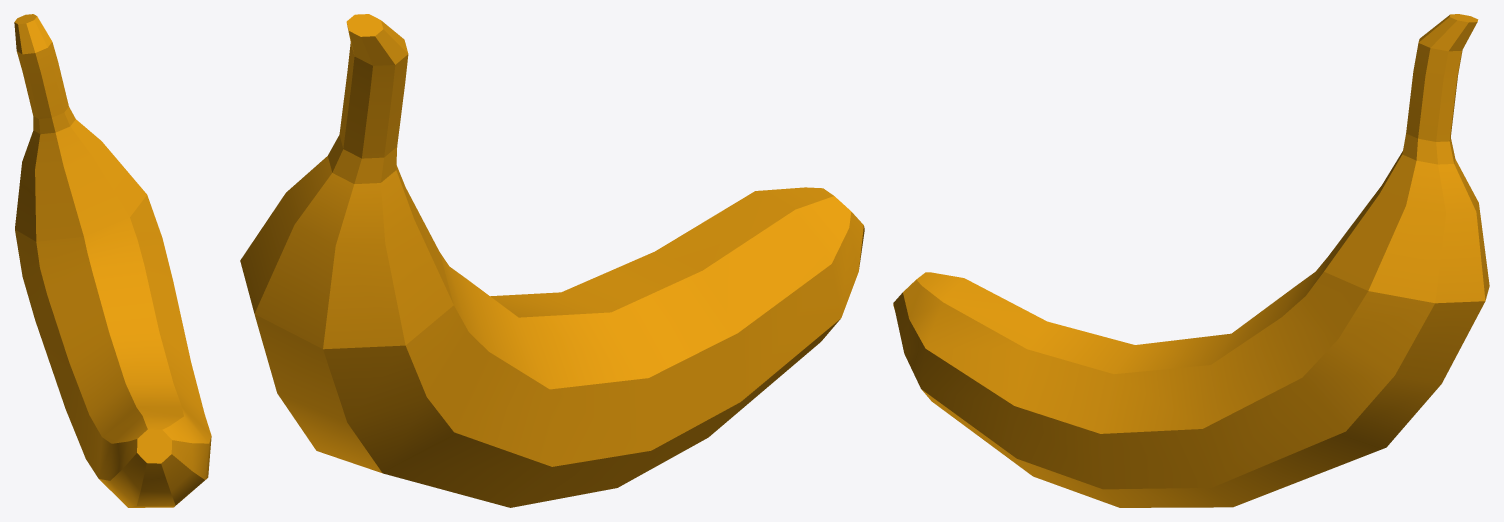
The model's file is DiningRoom_FruitBowl_Banana_low.fbx.
The picture shows the model from 3 angles, left to right: view 1: azimuth 30°, elevation 25°; view 2: azimuth 150°, elevation 25°; view 3: azimuth 270°, elevation 25°; orthographic projection. The views are drawn at different scales.
Visible parts, largest first — view 1: Cylinder.024; view 2: Cylinder.024; view 3: Cylinder.024.
Part boxes in pixels (bbox=[...]): Cylinder.024: bbox=[14, 14, 211, 507]; Cylinder.024: bbox=[240, 14, 864, 507]; Cylinder.024: bbox=[893, 14, 1489, 507].
Size of the model in its own units: 18.48 by 33.38 by 36.88.
